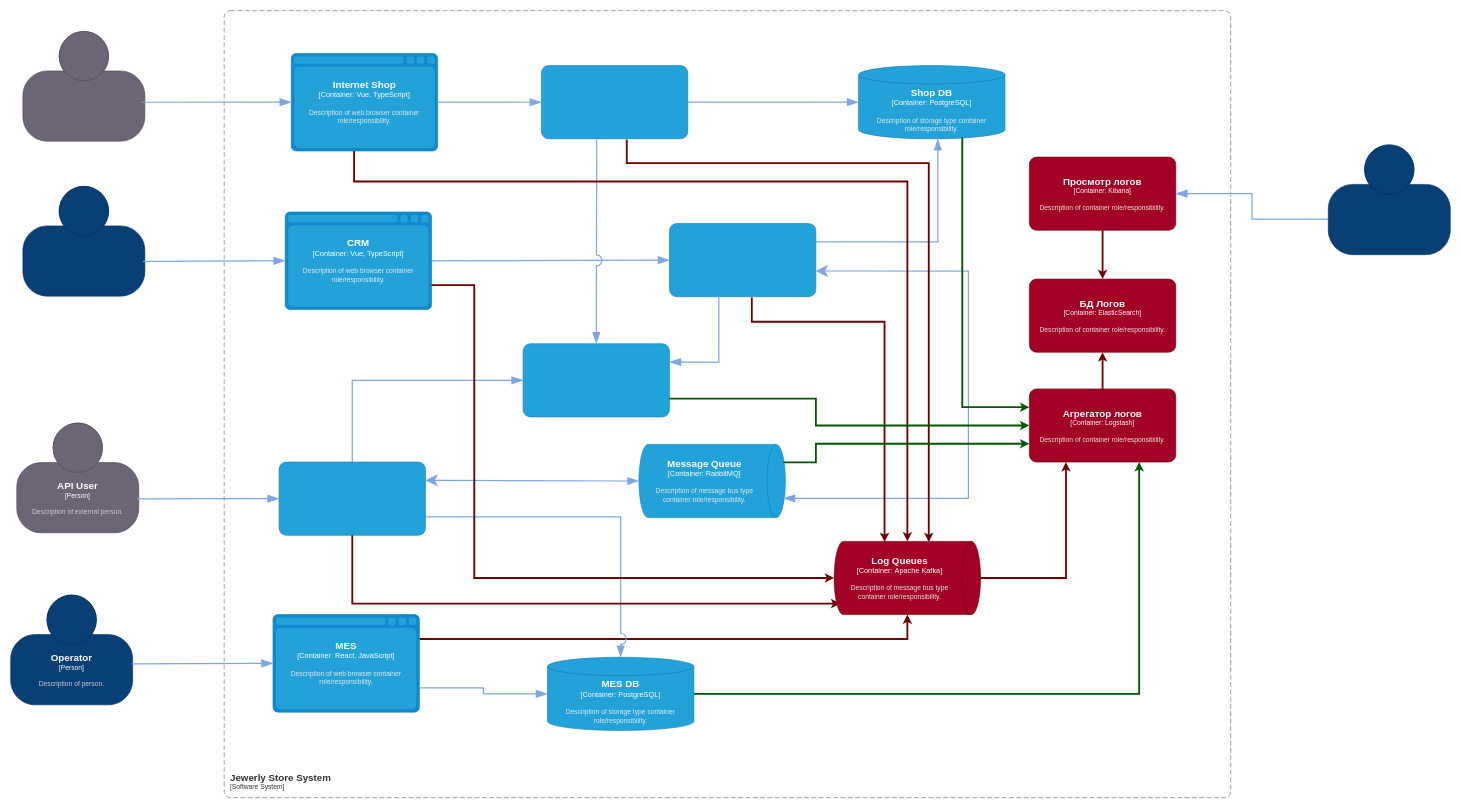
This 1461x808 diagram has some shape labels left out. Here are the shapes that lost their labels. From the top down, the centre of each, then its label:
the point at 83,86: Customer [Person] Description of external person.
the point at 614,102: Shop API [Container: SpringBoot] Description of container role/responsibility.
the point at 1389,199: Сопровождение [Person] Description of person.
the point at 83,241: Seller [Person] Description of person.
the point at 742,260: CRM API [Container: SpringBoot] Description of container role/responsibility.
the point at 595,380: 3d files storage [Container: S3] Description of container role/responsibility.
the point at 351,498: MES API [Container: C#] Description of container role/responsibility.
